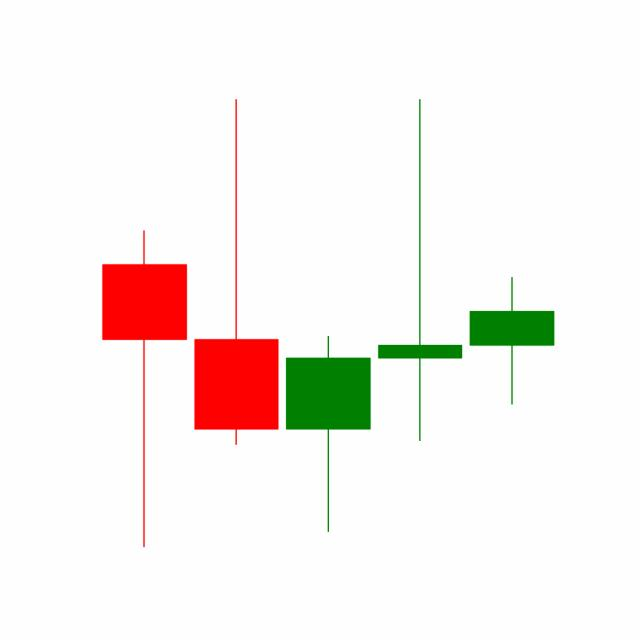Spinning Top: (373, 95, 467, 445)
